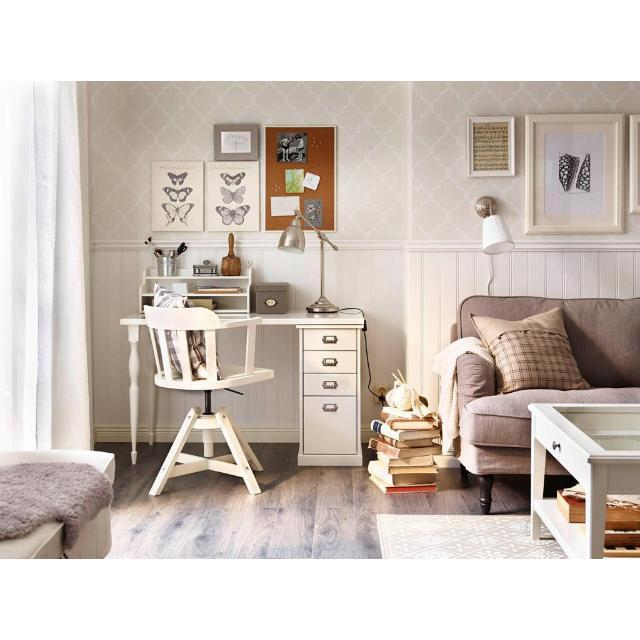chair: (144, 306, 274, 495)
couch: (432, 296, 640, 515)
curtain: (0, 81, 91, 449)
lamp: (278, 210, 339, 312)
pillow: (470, 307, 590, 394)
plant: (474, 195, 518, 258)
rug: (378, 515, 565, 558)
table: (118, 310, 364, 467), (528, 404, 640, 558)
wall-art: (525, 114, 624, 234), (265, 126, 335, 231), (152, 161, 204, 230), (208, 161, 259, 230), (468, 116, 515, 177), (214, 124, 259, 161), (630, 115, 640, 213)
